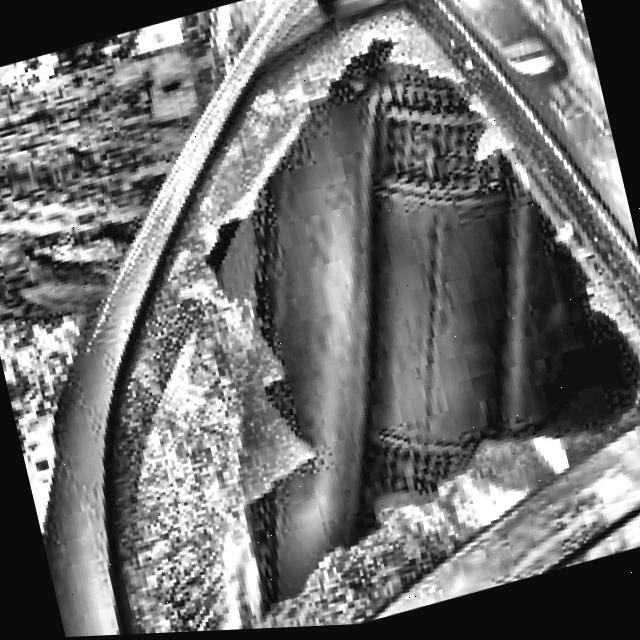glass_shatter: (95, 0, 640, 636)
